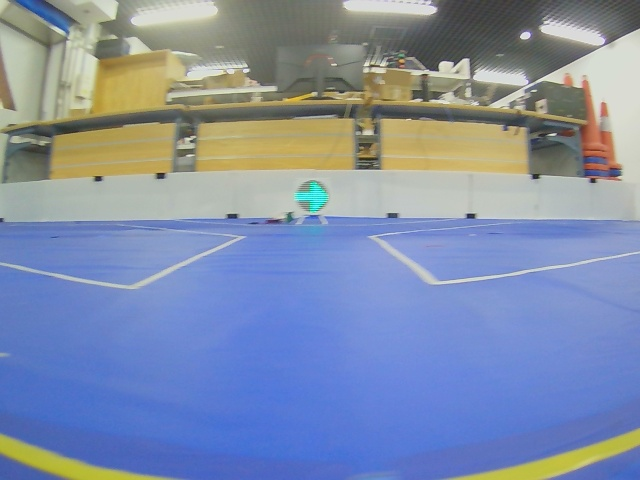right_green: (294, 180, 329, 214)
